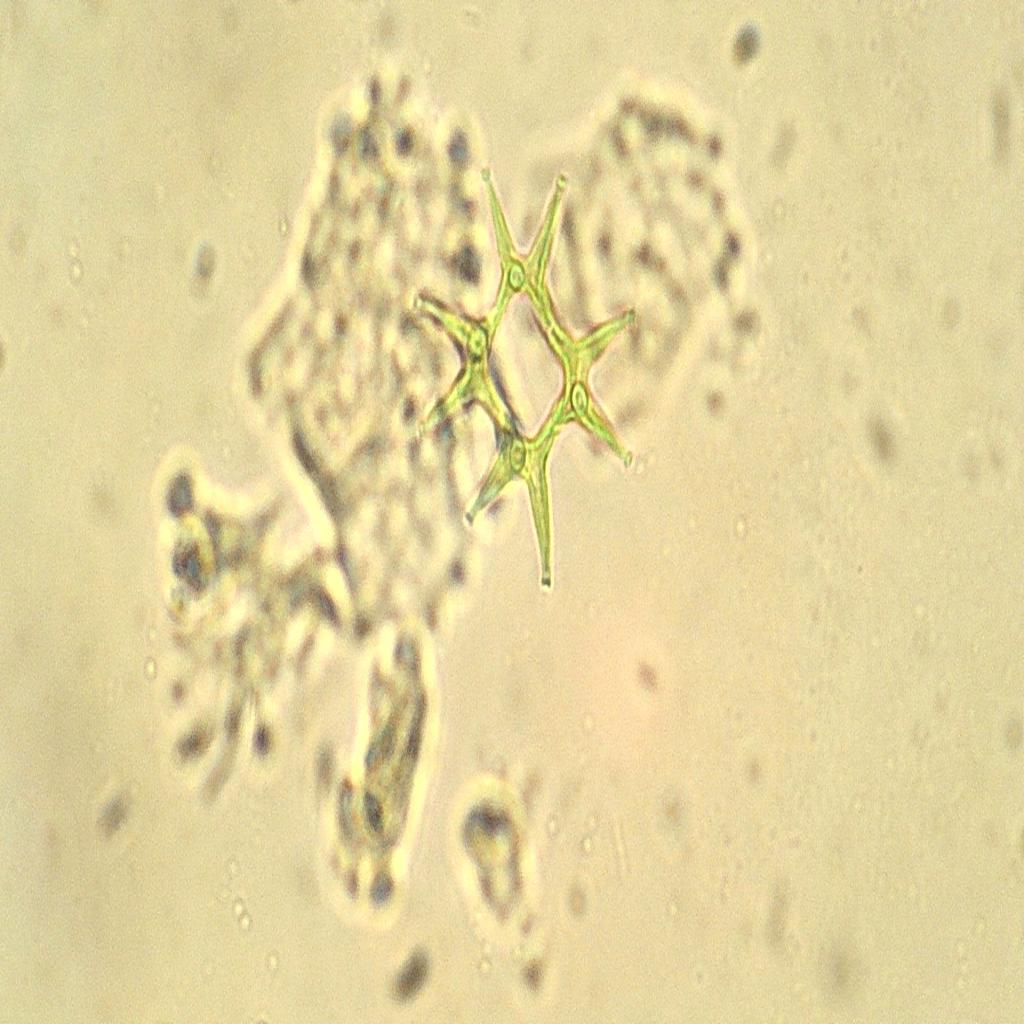Pediastrum_10: (404, 131, 654, 602)
